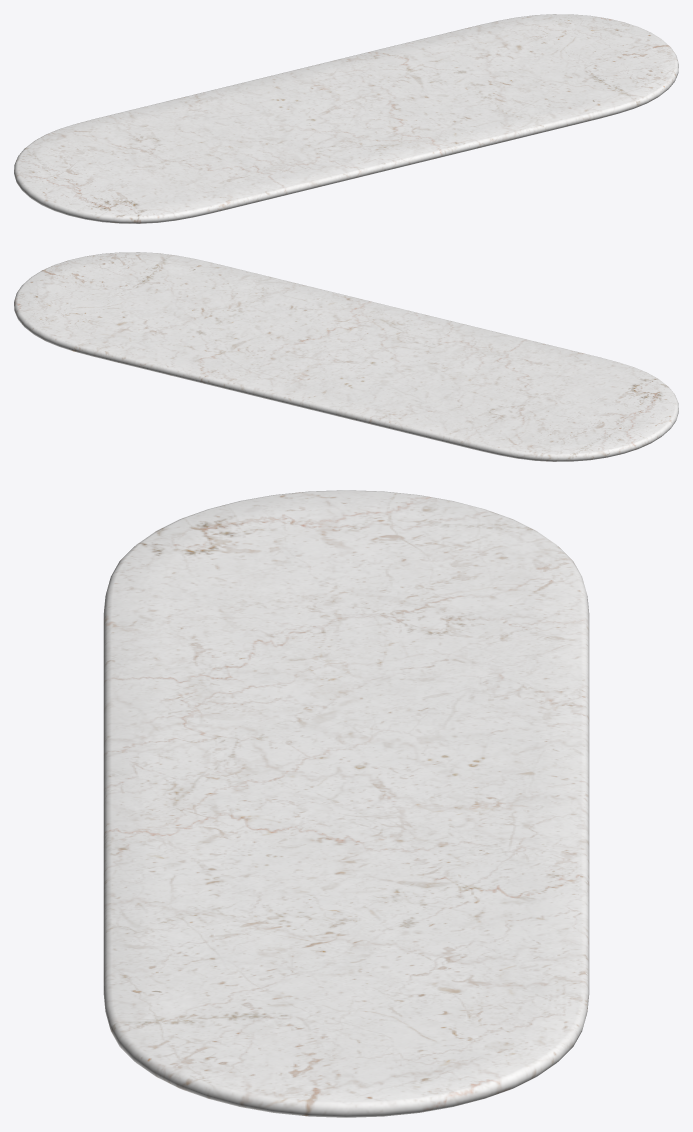
Rendered from mesa_vip.glb.
3 renders of one model, top to bottom at view 1: azimuth 30°, elevation 25°; view 2: azimuth 150°, elevation 25°; view 3: azimuth 270°, elevation 25°, orthographic. The views are drawn at different scales.
Parts seen in each view (by area): view 1: tabla; view 2: tabla; view 3: tabla.
Boxes of the visible parts, bbox=[...] form: tabla: bbox=[14, 14, 678, 223]; tabla: bbox=[14, 252, 678, 461]; tabla: bbox=[103, 490, 589, 1117].
Size of the model in its own units: 341 by 3.86 by 113.
1 material, 1 textured.
